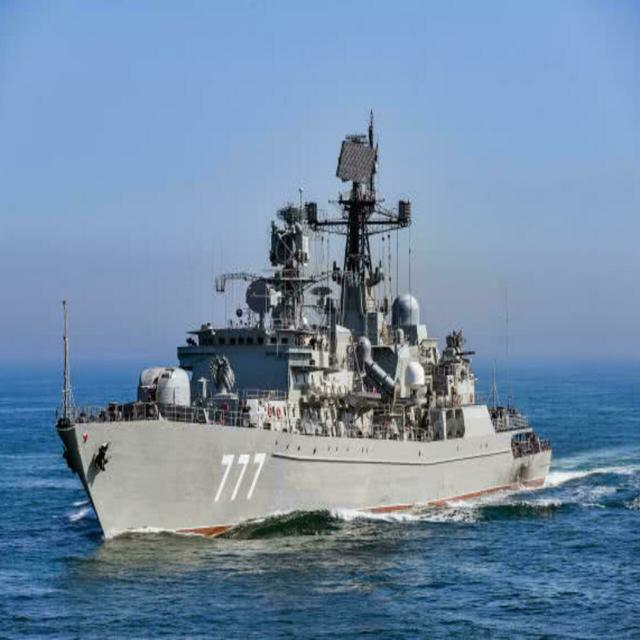navalvessels: (22, 111, 582, 551)
